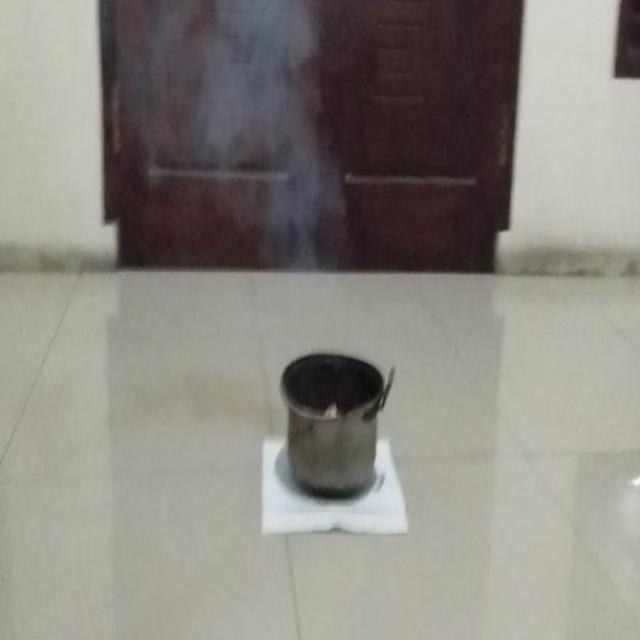fire: (140, 0, 327, 237)
